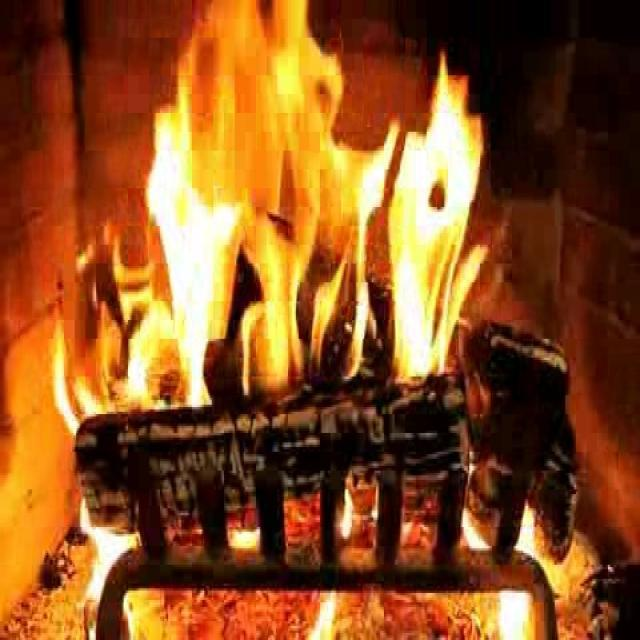Fire: (134, 9, 469, 408)
